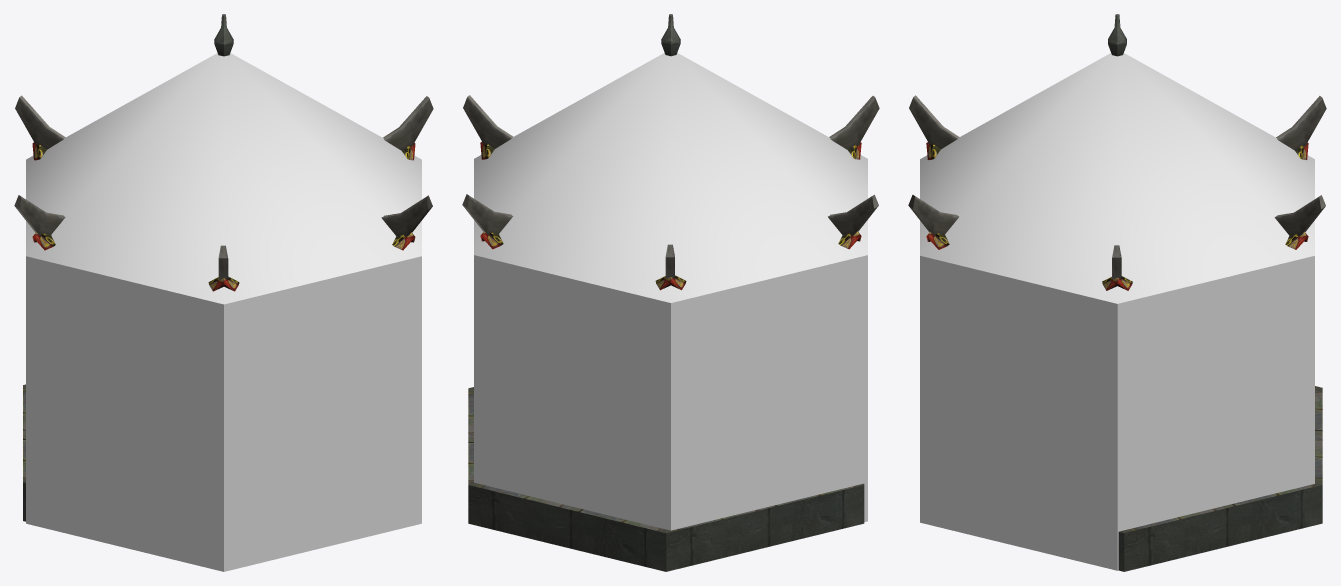
The model's file is YHJ_tingzi.FBX.
3 renders of one model, left to right at view 1: azimuth 30°, elevation 25°; view 2: azimuth 150°, elevation 25°; view 3: azimuth 270°, elevation 25°, orthographic.
Parts seen in each view (by area): view 1: YHJ_tingzi--col, YHJ_tingzi; view 2: YHJ_tingzi--col, YHJ_tingzi; view 3: YHJ_tingzi--col, YHJ_tingzi.
Boxes of the visible parts, x1,y1,x2,y2 form: YHJ_tingzi--col: (26, 53, 421, 571); YHJ_tingzi: (14, 14, 433, 521); YHJ_tingzi--col: (474, 53, 867, 530); YHJ_tingzi: (462, 14, 879, 571); YHJ_tingzi--col: (920, 53, 1314, 570); YHJ_tingzi: (908, 14, 1326, 571).
Size of the model in its own units: 4.88 by 5.19 by 4.28.
